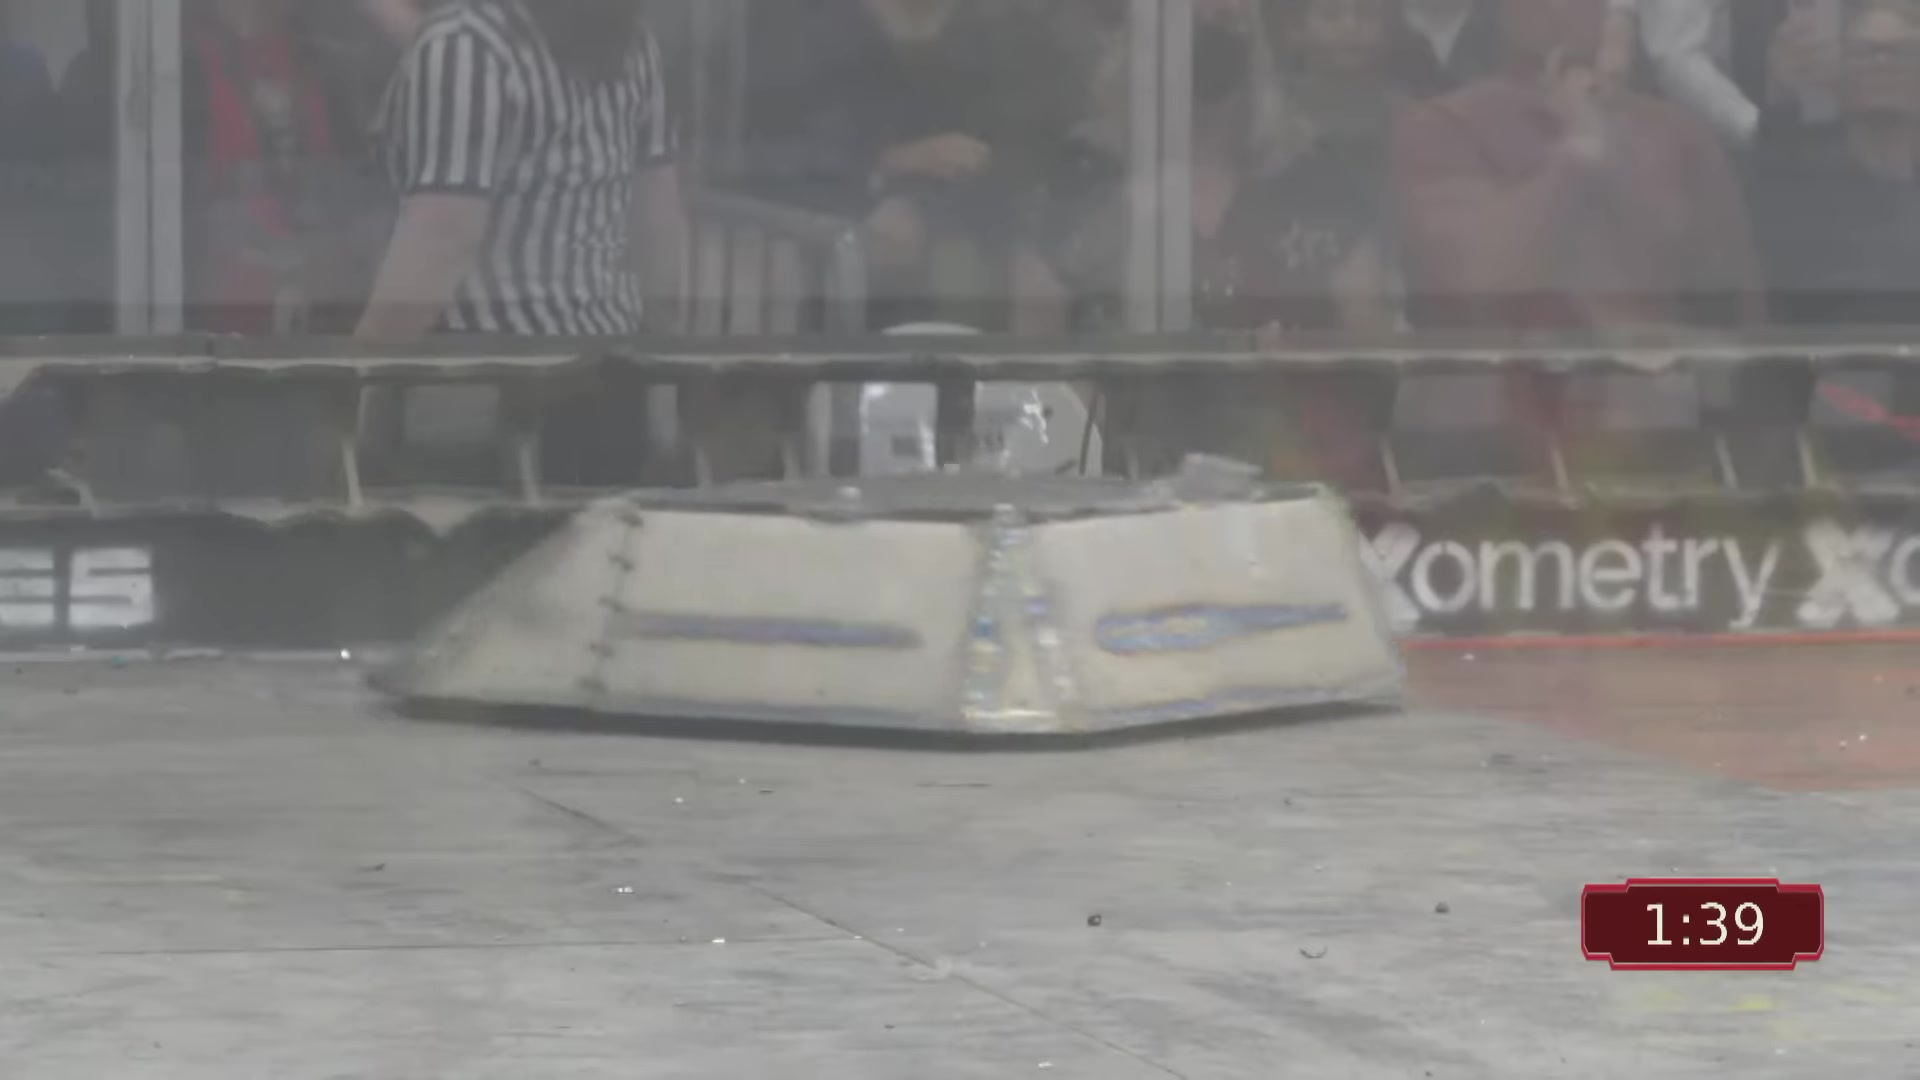combatbot: (386, 469, 1404, 732)
